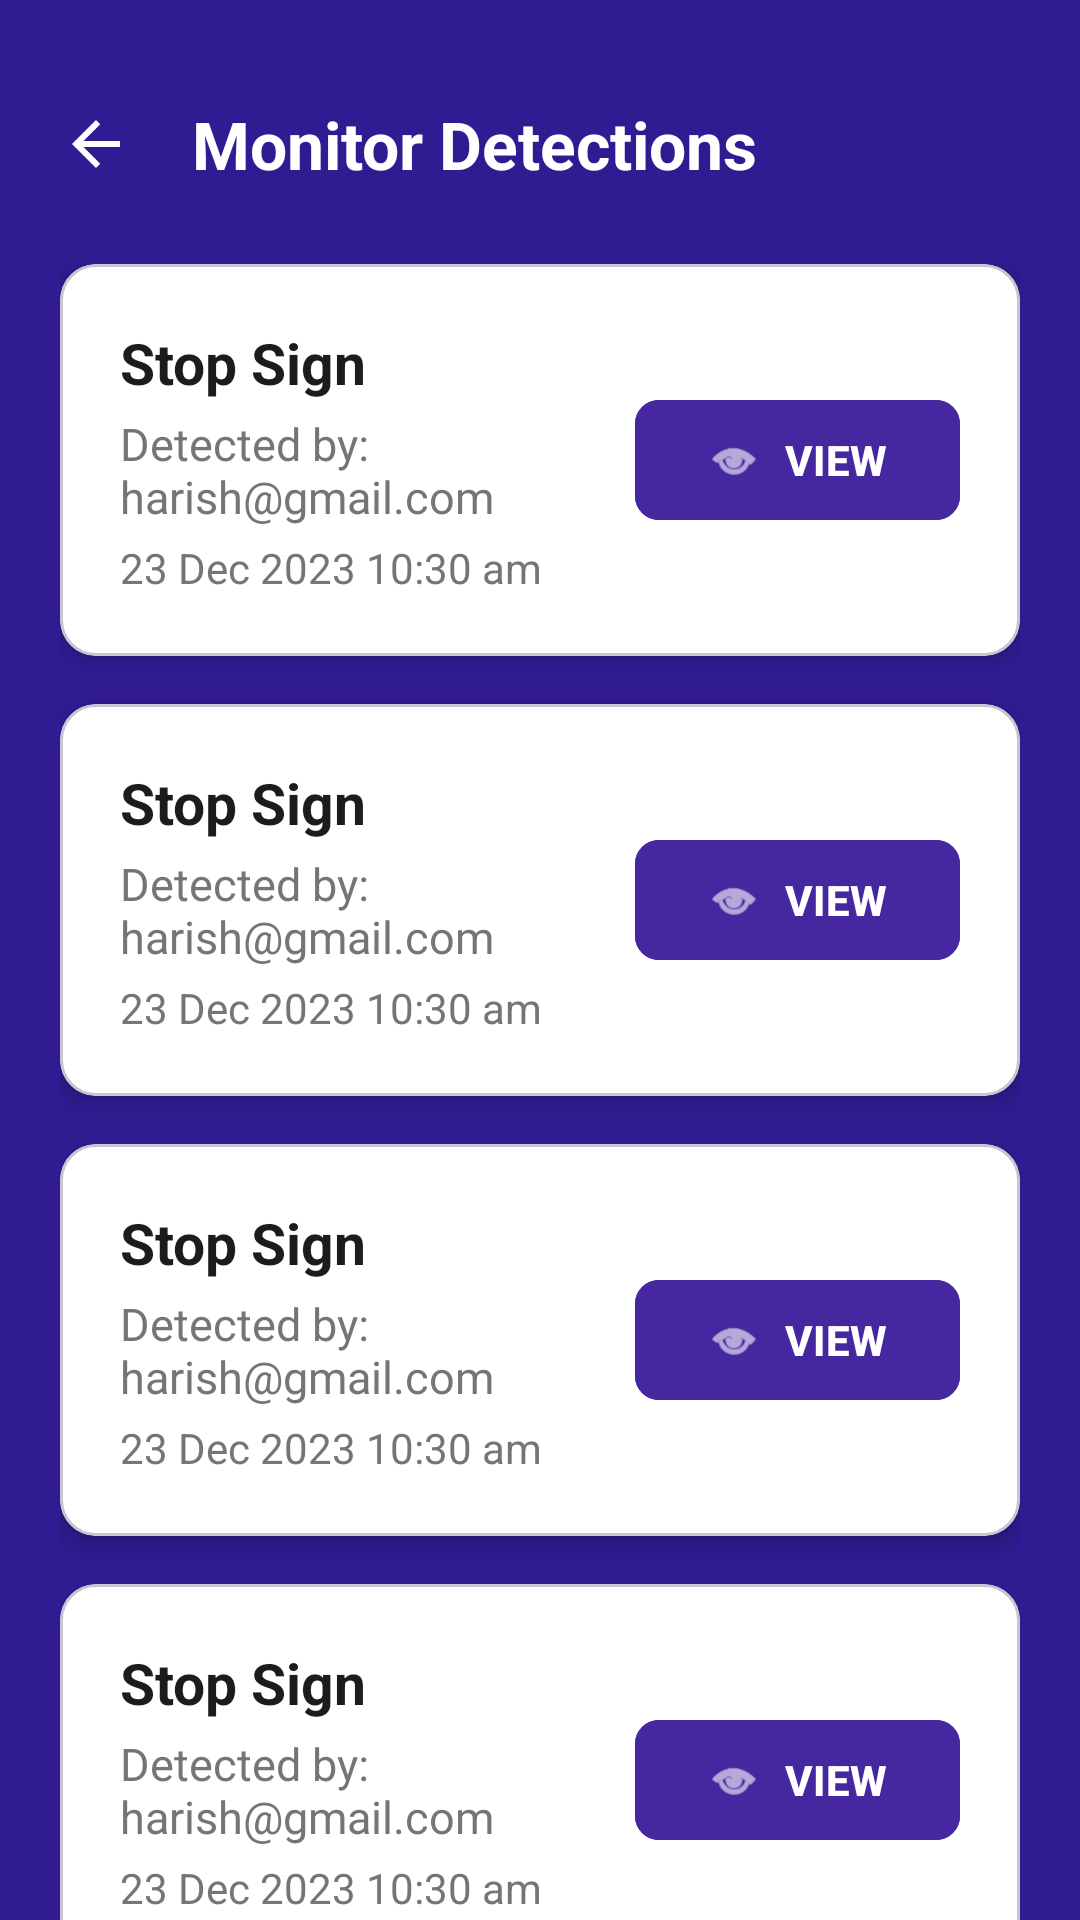

Icon bounding boxes for this 1080 x 1920 phone screenshot, format [left=x1, top=y1, right=x2, bottom=y2]:
arrow back: [left=72, top=120, right=120, bottom=168]
